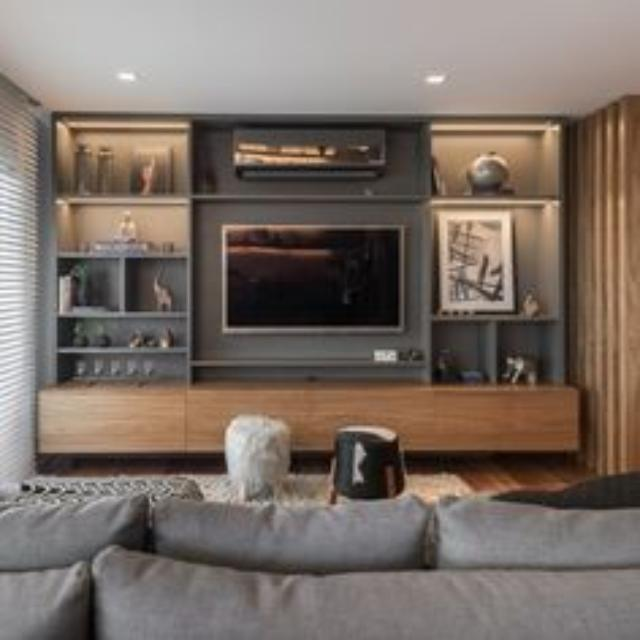Flat-Panel-TV: (215, 218, 428, 342)
